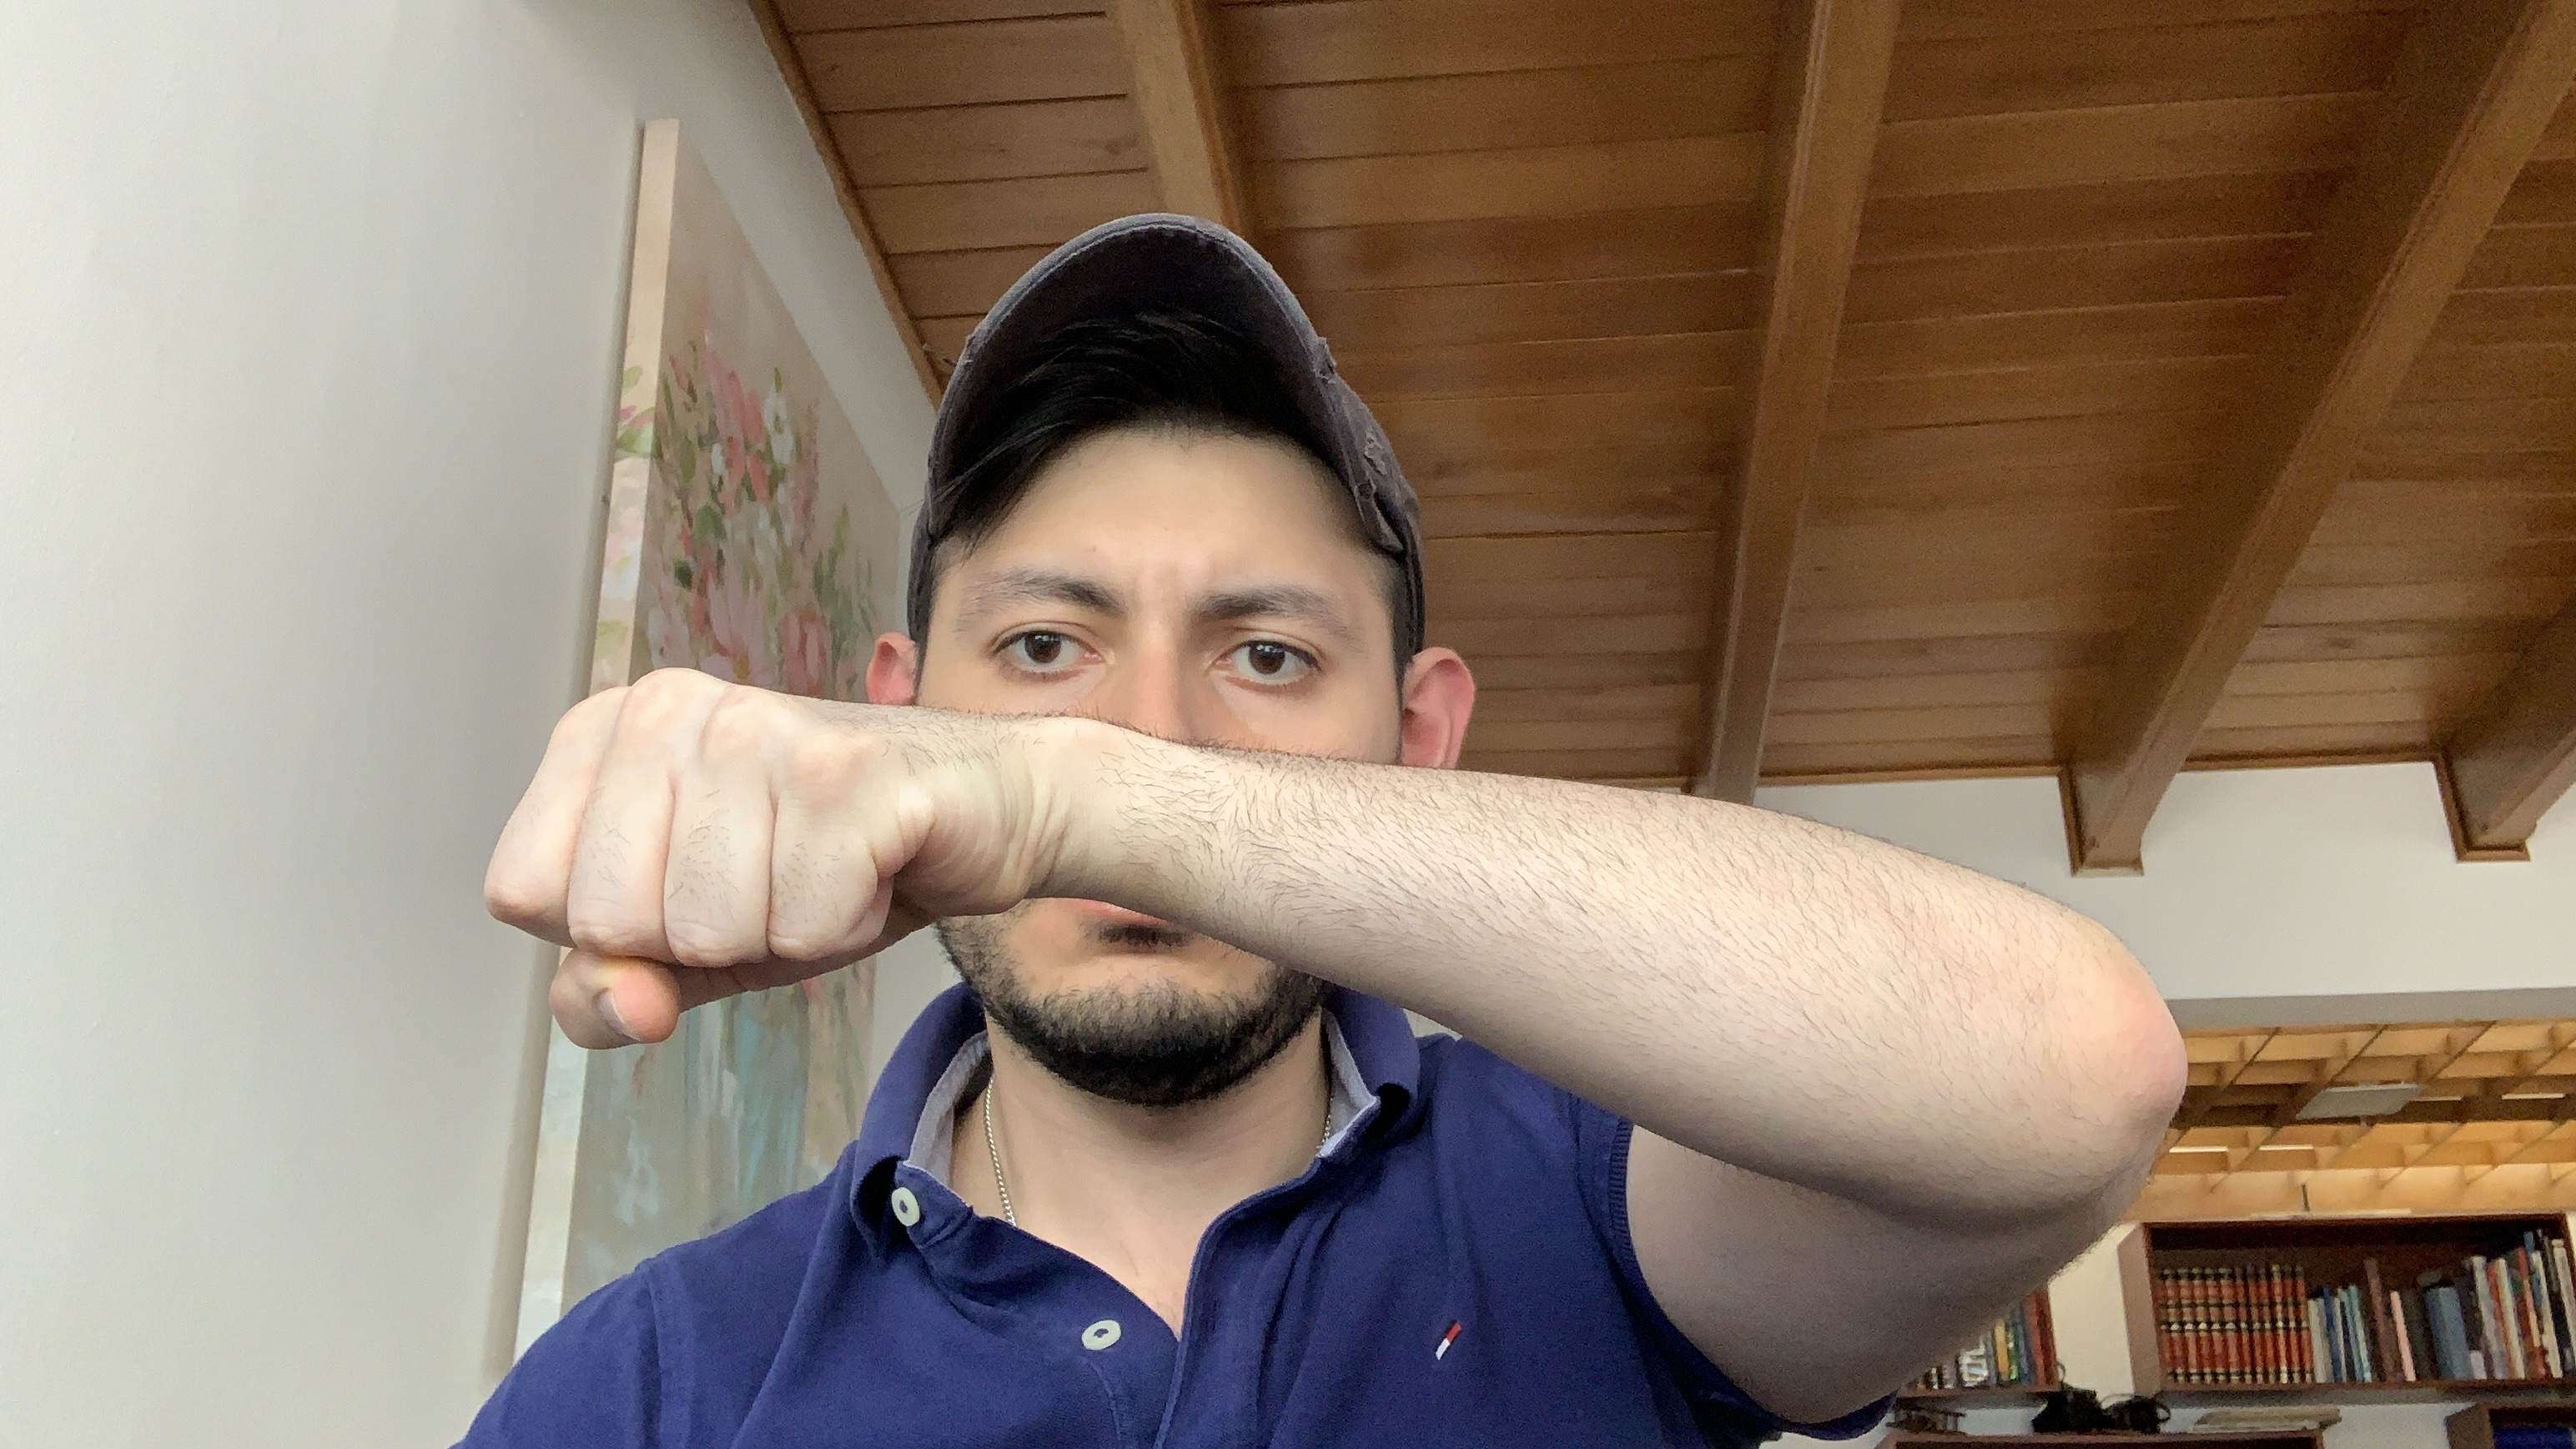Yes: (471, 660, 1049, 1031)
